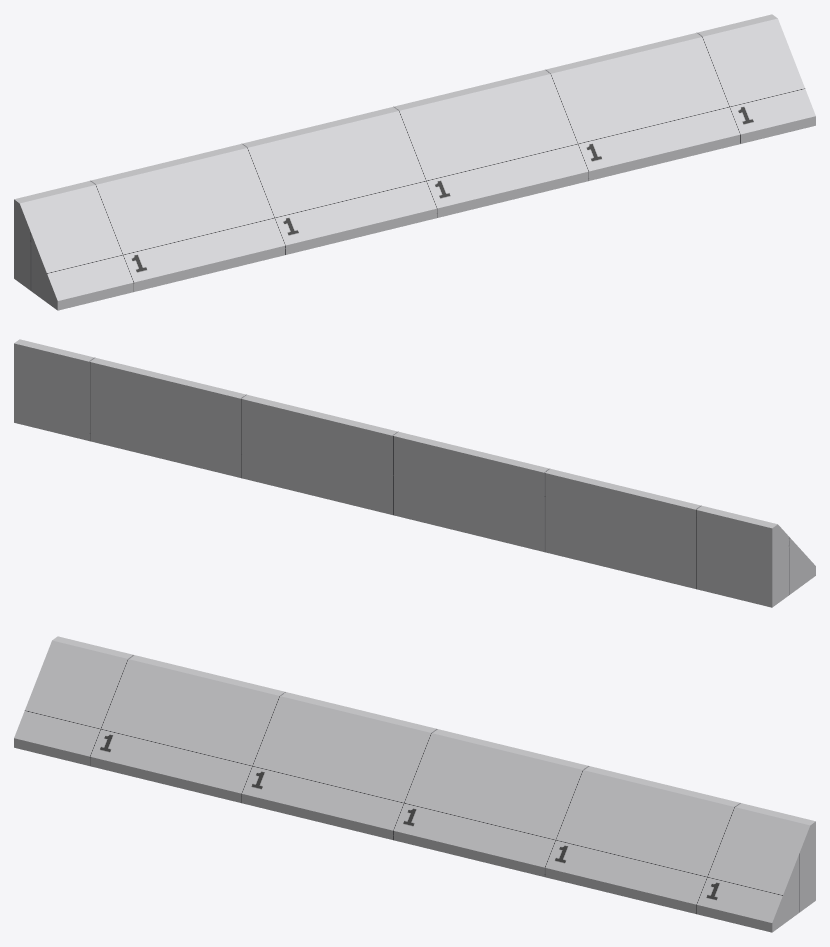
File: hedgehog_collider_part.fbx
The picture shows the model from 3 angles, top to bottom: view 1: azimuth 30°, elevation 25°; view 2: azimuth 150°, elevation 25°; view 3: azimuth 330°, elevation 25°; orthographic projection.
Parts seen in each view (by area): view 1: dev_whitegrid Mesh (1); view 2: dev_whitegrid Mesh (1); view 3: dev_whitegrid Mesh (1).
Part boxes in pixels (x1,y1,x2,y2): dev_whitegrid Mesh (1): (14,14,815,310); dev_whitegrid Mesh (1): (14,339,815,607); dev_whitegrid Mesh (1): (14,636,815,932).
Size of what is drawn, in the model's own units: 5 by 0.5 by 0.5.
